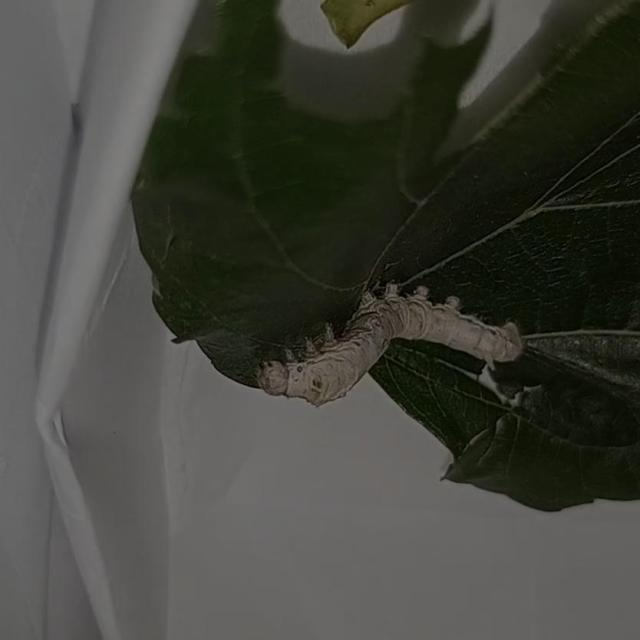Healthy: (250, 274, 530, 414)
